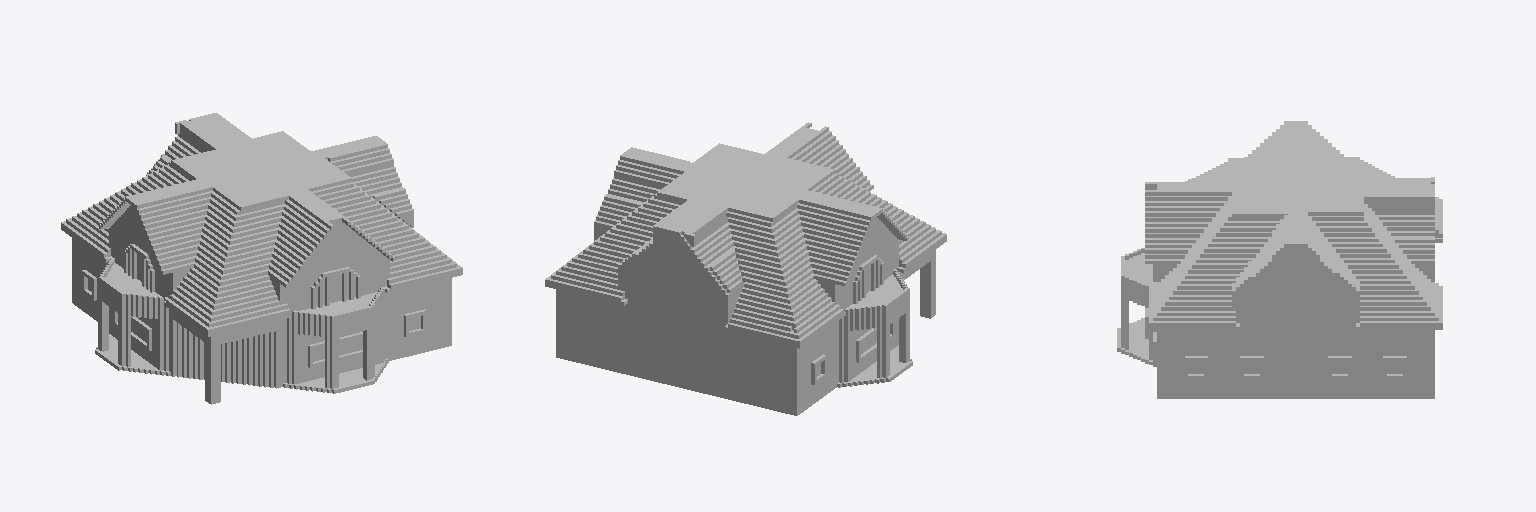
File: map v1.0-9.obj
The picture shows the model from 3 angles: view 1: azimuth 30°, elevation 25°; view 2: azimuth 150°, elevation 25°; view 3: azimuth 270°, elevation 25°; orthographic projection.
Parts seen in each view (by area): view 1: object 1; view 2: object 1; view 3: object 1.
Boxes of the visible parts, x1,y1,x2,y2 form: object 1: [61, 113, 462, 404]; object 1: [545, 122, 946, 415]; object 1: [1117, 121, 1442, 398].
Size of the model in its own units: 8.2 by 4.3 by 8.2.